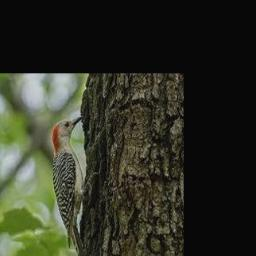Woodpecker: (52, 115, 100, 256)
